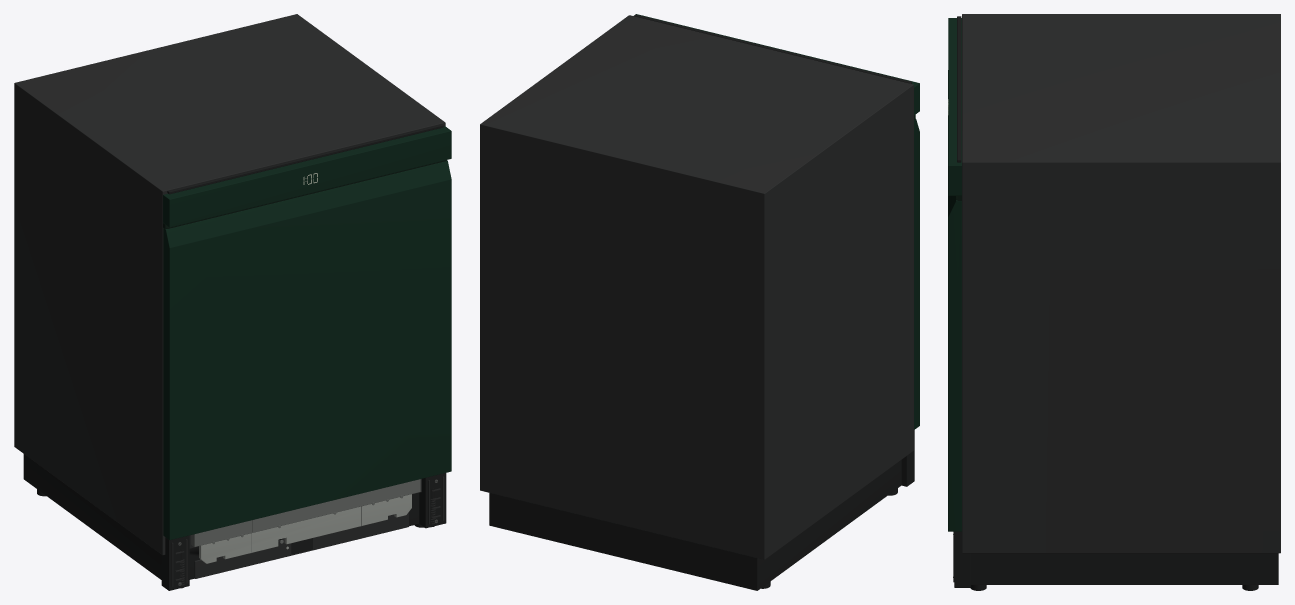
File: DUE6GLHE.glb
The picture shows the model from 3 angles, left to right: view 1: azimuth 30°, elevation 25°; view 2: azimuth 150°, elevation 25°; view 3: azimuth 270°, elevation 25°; orthographic projection. The views are drawn at different scales.
Parts seen in each view (by area): view 1: ControlFascia, BaseFrontCover, BaseMoldedCenter, BaseCenterScrew, BraceCenterPress; view 2: BaseFrontCover, BaseMoldedCenter, ControlFascia; view 3: BaseFrontCover, BaseMoldedCenter, ControlFascia.
Part boxes in pixels (bbox=[...]): ControlFascia: bbox=[163, 126, 451, 539]; BaseFrontCover: bbox=[14, 14, 445, 586]; BaseMoldedCenter: bbox=[23, 124, 446, 590]; BaseCenterScrew: bbox=[199, 494, 411, 563]; BraceCenterPress: bbox=[191, 479, 420, 552]; BaseFrontCover: bbox=[480, 15, 913, 559]; BaseMoldedCenter: bbox=[489, 14, 914, 590]; ControlFascia: bbox=[634, 14, 919, 429]; BaseFrontCover: bbox=[953, 14, 1280, 582]; BaseMoldedCenter: bbox=[953, 16, 1278, 590]; ControlFascia: bbox=[948, 18, 961, 531].
Bounding box in the file's own units: 0.598 × 0.815 × 0.567.
